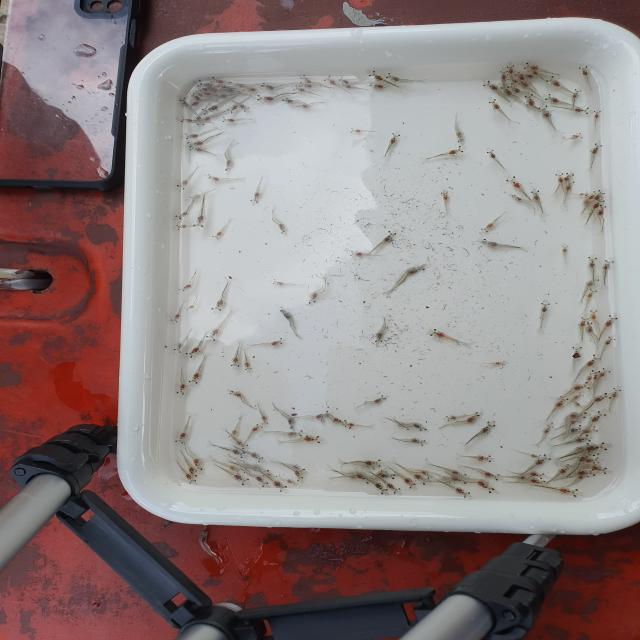babyshrimp: (476, 478, 496, 494), (448, 469, 468, 485), (192, 212, 207, 233), (505, 176, 524, 192), (199, 103, 221, 116), (251, 463, 273, 476), (589, 410, 607, 425), (556, 172, 575, 186), (584, 354, 603, 368), (585, 441, 609, 452), (454, 487, 474, 500), (355, 471, 375, 484), (205, 328, 221, 344), (279, 305, 295, 321), (479, 420, 496, 435), (405, 263, 428, 274), (372, 482, 390, 496), (272, 480, 290, 494), (266, 337, 287, 349), (446, 146, 468, 157), (571, 381, 593, 392), (558, 487, 580, 498), (524, 93, 540, 108), (537, 105, 553, 120), (603, 313, 618, 329), (552, 395, 569, 409), (413, 472, 430, 486), (174, 178, 191, 192), (366, 69, 384, 82), (478, 222, 496, 235), (386, 483, 404, 496), (172, 210, 191, 222), (403, 476, 418, 491), (211, 299, 225, 315), (382, 229, 398, 243), (546, 75, 563, 88), (534, 454, 551, 467), (571, 434, 593, 444), (409, 437, 429, 448), (364, 459, 384, 470), (487, 97, 502, 111), (590, 140, 604, 155), (426, 328, 447, 338), (593, 392, 612, 403), (185, 346, 201, 359), (464, 412, 481, 424), (257, 82, 277, 92), (482, 471, 502, 481), (302, 434, 322, 444), (255, 94, 277, 103), (481, 80, 499, 91), (601, 257, 615, 271), (539, 300, 552, 315), (610, 387, 623, 402), (188, 371, 201, 386), (389, 129, 401, 145), (597, 367, 613, 379), (557, 463, 573, 475), (233, 474, 249, 486), (249, 451, 265, 463), (374, 329, 386, 345), (409, 422, 428, 432), (530, 187, 541, 204), (587, 254, 598, 271), (577, 316, 590, 330), (255, 475, 269, 488), (307, 292, 320, 306), (315, 410, 330, 422), (176, 381, 188, 396), (330, 416, 346, 427), (522, 62, 541, 71), (590, 465, 609, 474), (384, 72, 401, 82), (543, 93, 560, 103), (206, 173, 223, 183), (173, 341, 186, 354), (586, 277, 600, 289), (174, 432, 188, 444), (170, 311, 182, 325), (249, 192, 263, 204), (572, 345, 583, 360), (278, 222, 289, 237), (380, 471, 398, 480), (555, 169, 565, 185), (590, 199, 606, 209), (231, 448, 247, 458), (233, 439, 249, 449), (507, 82, 520, 94), (571, 87, 583, 100), (595, 204, 607, 217), (594, 190, 607, 202), (586, 287, 599, 299), (250, 423, 264, 434), (573, 106, 590, 115), (530, 471, 547, 480), (186, 141, 205, 149), (178, 283, 193, 293), (577, 65, 589, 77), (542, 423, 554, 435), (292, 469, 304, 481), (228, 389, 244, 398), (225, 159, 234, 175), (486, 147, 497, 160), (499, 69, 510, 82), (564, 180, 575, 193), (603, 335, 616, 346), (590, 369, 603, 380), (192, 457, 203, 470), (323, 75, 337, 85), (499, 85, 513, 95), (585, 320, 595, 334), (373, 395, 388, 404), (178, 95, 189, 107), (456, 131, 467, 143), (185, 473, 197, 484), (243, 360, 254, 372), (589, 308, 599, 321), (293, 85, 309, 93), (298, 75, 314, 83), (508, 194, 524, 202), (478, 455, 494, 463), (287, 430, 303, 438), (343, 421, 359, 429), (270, 279, 286, 287), (349, 250, 365, 258), (572, 392, 586, 401), (227, 104, 239, 114), (188, 463, 198, 475), (230, 356, 240, 368), (571, 132, 584, 141), (293, 464, 306, 473), (228, 465, 241, 474), (171, 224, 190, 230), (178, 116, 194, 123), (297, 82, 313, 89), (444, 414, 458, 422), (210, 77, 226, 84), (241, 104, 252, 114), (287, 418, 297, 429), (593, 108, 602, 120), (440, 189, 449, 201), (211, 231, 223, 240), (189, 146, 207, 152), (184, 133, 199, 140), (284, 478, 297, 486), (183, 304, 196, 312), (260, 415, 270, 425), (228, 429, 239, 438), (281, 97, 295, 104), (338, 76, 350, 84), (368, 83, 384, 89), (506, 64, 514, 76), (494, 360, 507, 367), (529, 453, 542, 460), (297, 103, 312, 109), (561, 243, 569, 254), (220, 117, 234, 123), (349, 128, 363, 134), (577, 191, 589, 198), (584, 372, 593, 381), (343, 84, 353, 90)
